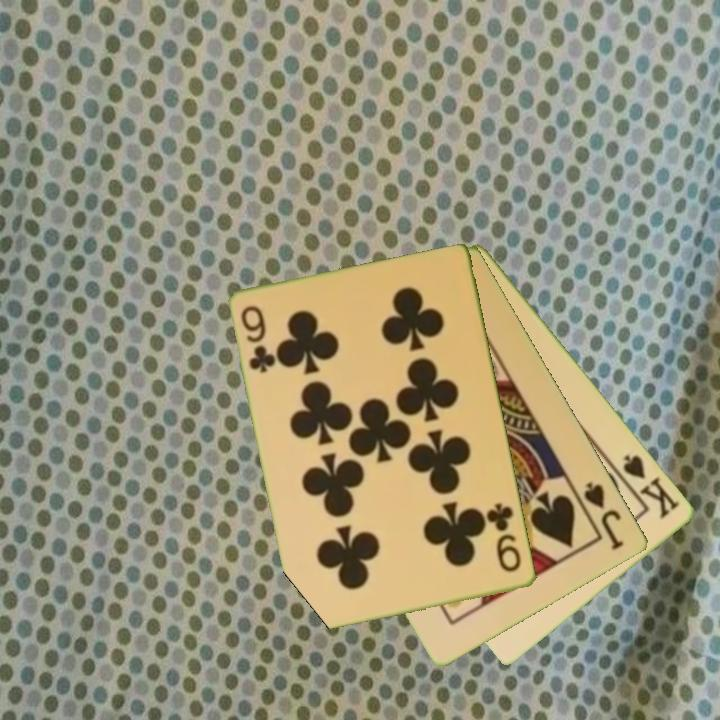9c: (484, 499, 525, 576), (237, 302, 279, 377)
Js: (581, 478, 627, 553)
Ks: (611, 450, 683, 522)
